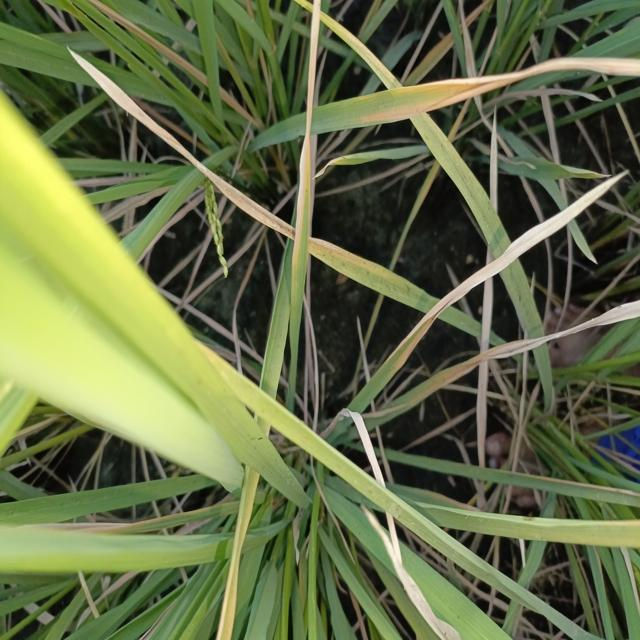Brown spot: (60, 40, 433, 311), (375, 166, 635, 380), (345, 34, 640, 139), (410, 298, 640, 409)
